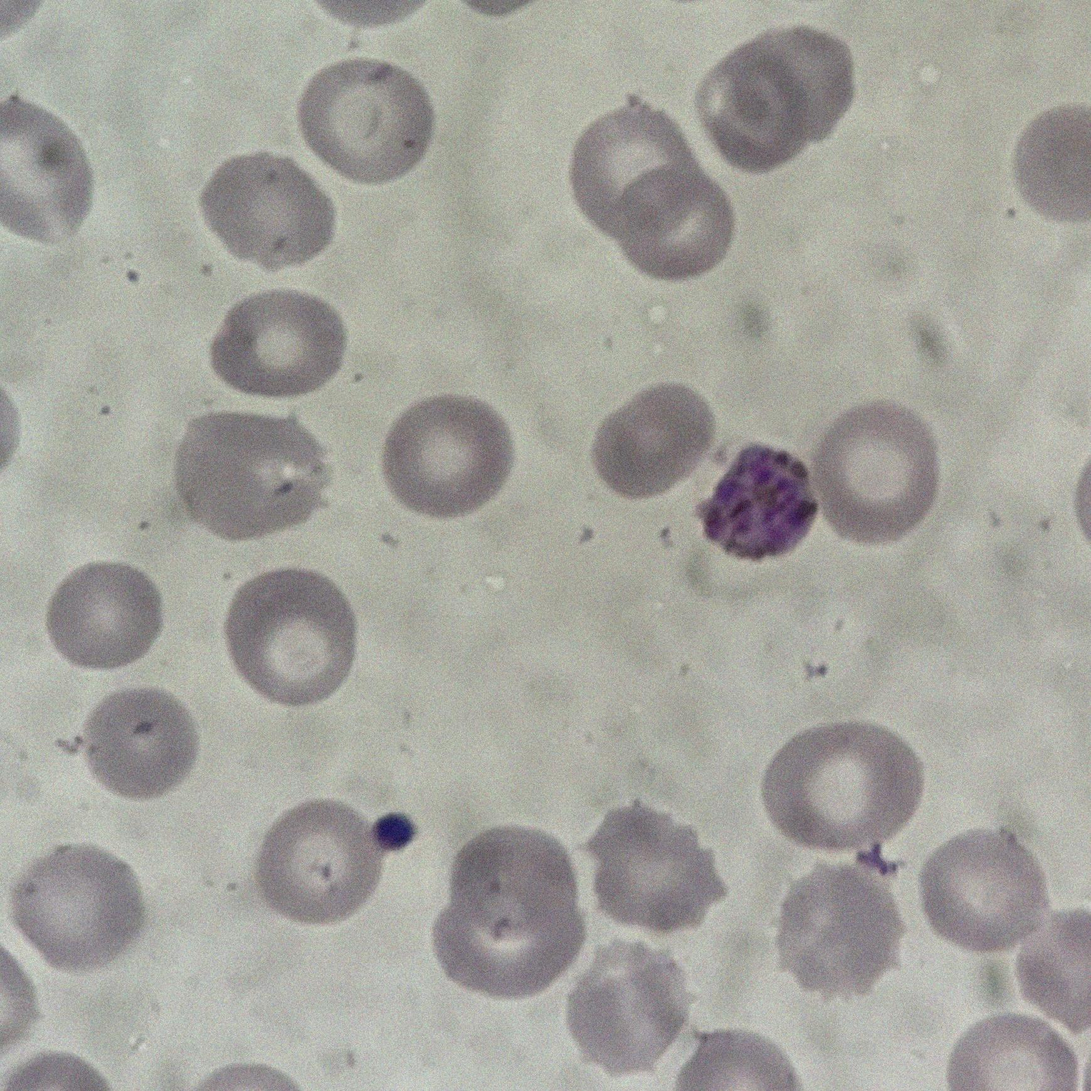Infected: (700, 442, 819, 557)
Uninfected: (431, 826, 586, 997), (759, 722, 924, 855), (176, 411, 333, 542), (808, 399, 945, 545), (581, 799, 727, 932), (774, 861, 910, 1001), (571, 101, 708, 238), (223, 571, 359, 707), (13, 841, 150, 974), (917, 829, 1054, 954), (207, 285, 352, 403), (297, 59, 438, 180), (255, 799, 389, 926), (378, 396, 516, 519), (563, 939, 690, 1071), (589, 382, 719, 499), (742, 19, 855, 150), (201, 153, 335, 262), (1, 93, 95, 243), (78, 687, 200, 802), (617, 166, 739, 280), (45, 562, 165, 669), (702, 48, 803, 170), (1012, 104, 1090, 223), (946, 1014, 1076, 1085), (1016, 909, 1090, 1030), (683, 541, 764, 601)
